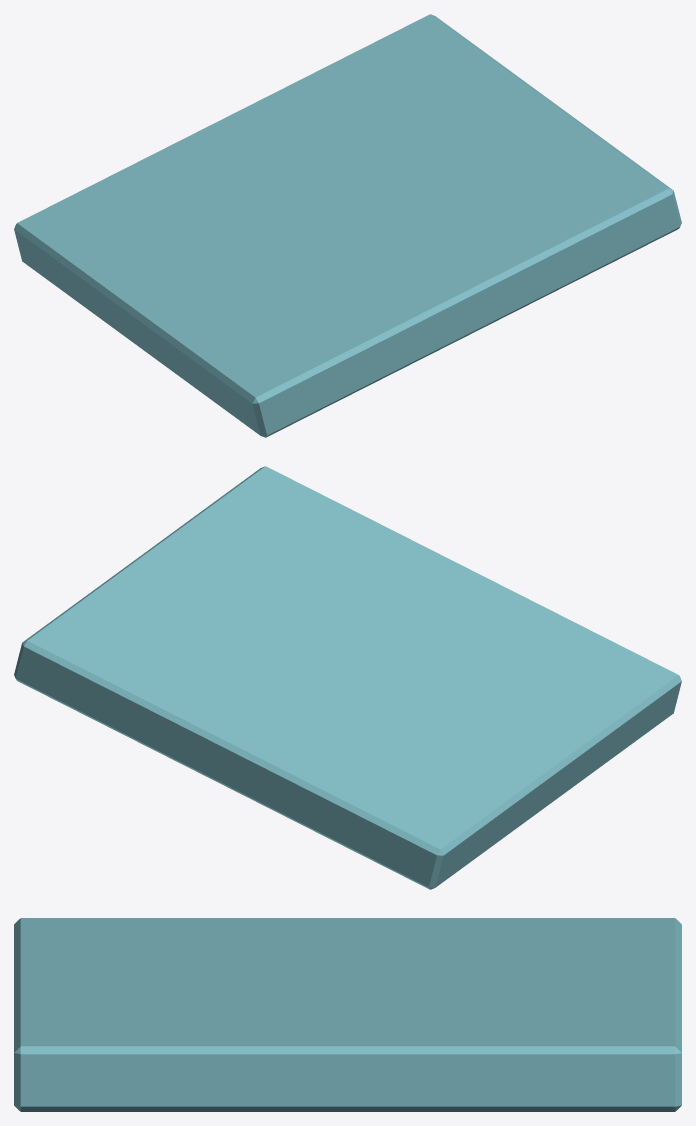
The model's file is Rampa.fbx.
3 renders of one model, top to bottom at view 1: azimuth 30°, elevation 25°; view 2: azimuth 150°, elevation 25°; view 3: azimuth 270°, elevation 25°, orthographic. The views are drawn at different scales.
Parts seen in each view (by area): view 1: Rampa; view 2: Rampa; view 3: Rampa.
Boxes of the visible parts, x1,y1,x2,y2 form: Rampa: (14, 14, 681, 437); Rampa: (14, 466, 681, 889); Rampa: (14, 918, 681, 1111).
Size of the model in its own units: 2.04 by 0.6843 by 2.
